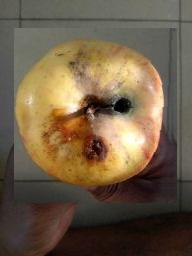Apple Rotten: (14, 28, 177, 203)
